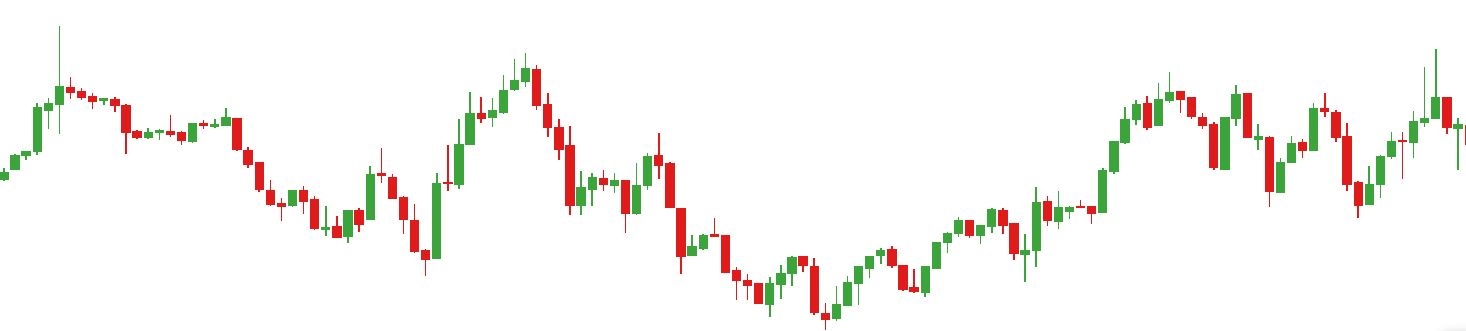buy: (333, 191, 445, 278), (764, 267, 841, 331)
sell: (1319, 48, 1454, 169)
